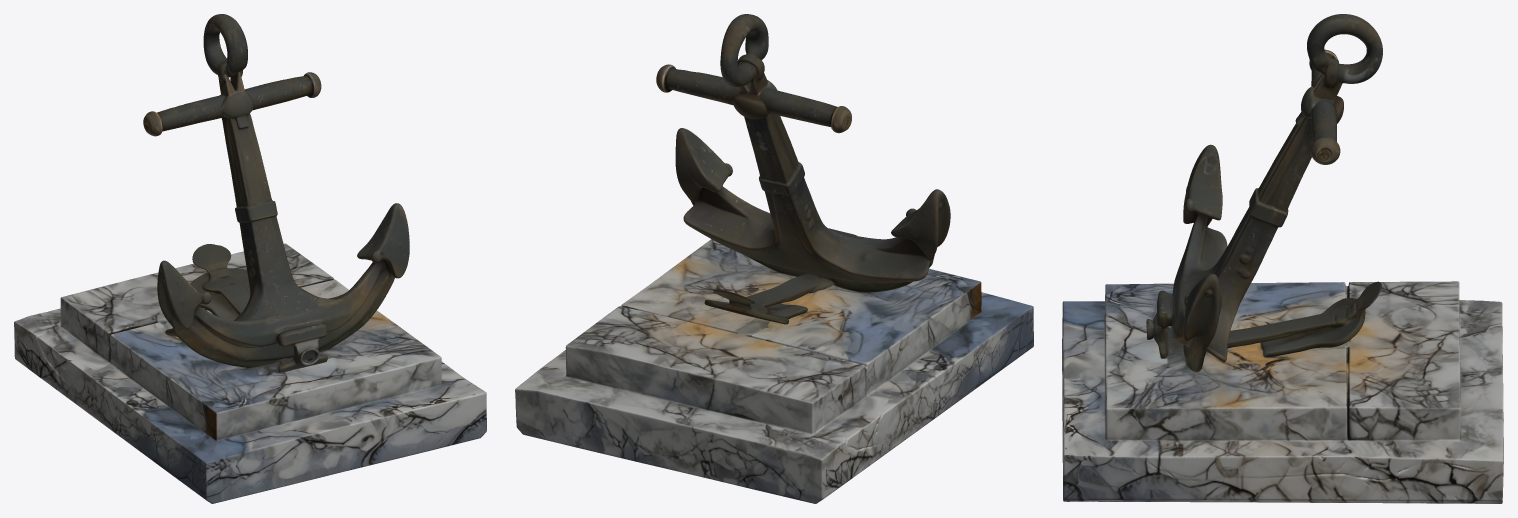
The model's file is anchor_statue.glb.
The picture shows the model from 3 angles, left to right: view 1: azimuth 30°, elevation 25°; view 2: azimuth 150°, elevation 25°; view 3: azimuth 270°, elevation 25°; orthographic projection. The views are drawn at different scales.
Parts seen in each view (by area): view 1: tripo_node_8d393926-b31d-4e19-8e46-7c4b9d584e7a; view 2: tripo_node_8d393926-b31d-4e19-8e46-7c4b9d584e7a; view 3: tripo_node_8d393926-b31d-4e19-8e46-7c4b9d584e7a.
Boxes of the visible parts, x1=… form: tripo_node_8d393926-b31d-4e19-8e46-7c4b9d584e7a: x1=14, y1=14, x2=486, y2=503; tripo_node_8d393926-b31d-4e19-8e46-7c4b9d584e7a: x1=515, y1=14, x2=1033, y2=503; tripo_node_8d393926-b31d-4e19-8e46-7c4b9d584e7a: x1=1062, y1=14, x2=1503, y2=503.
Size of the model in its own units: 0.8105 by 1 by 0.9654.
1 material, 1 textured.
